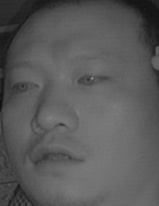eye: (76, 66, 109, 91), (10, 76, 41, 95)
mouth: (24, 138, 88, 173)
